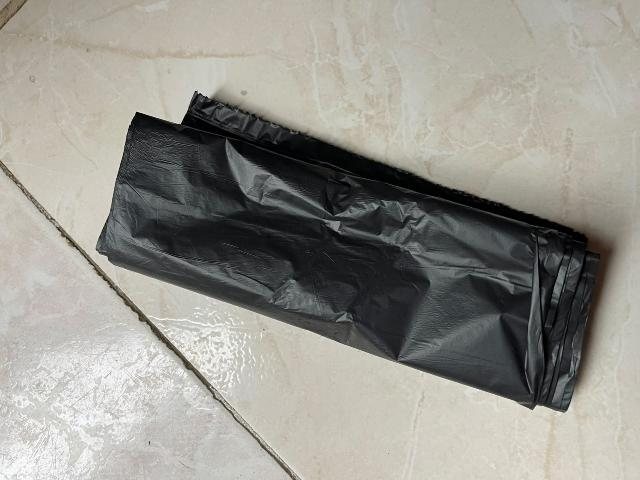LDPE: (97, 80, 579, 426)
